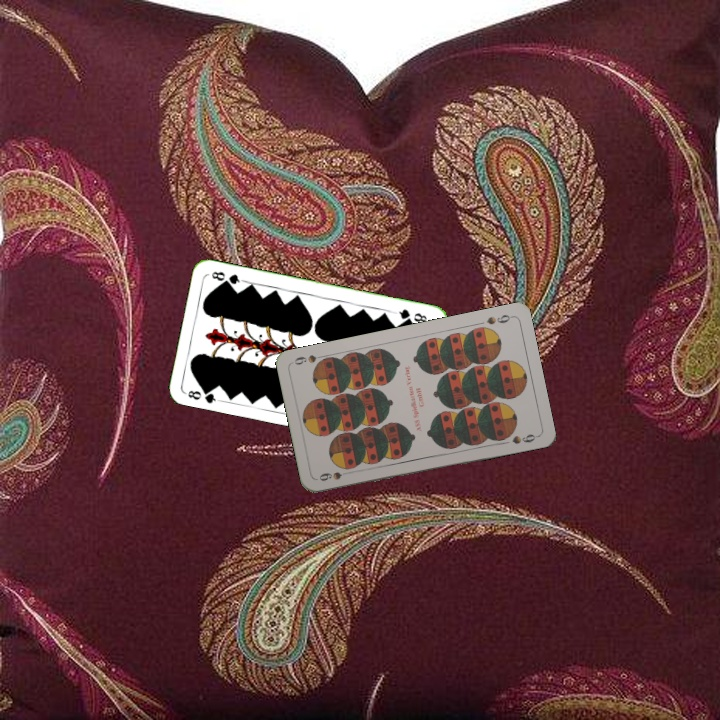G8: (182, 384, 222, 406), (391, 305, 430, 325)
S9: (315, 467, 355, 484), (482, 310, 515, 327)
